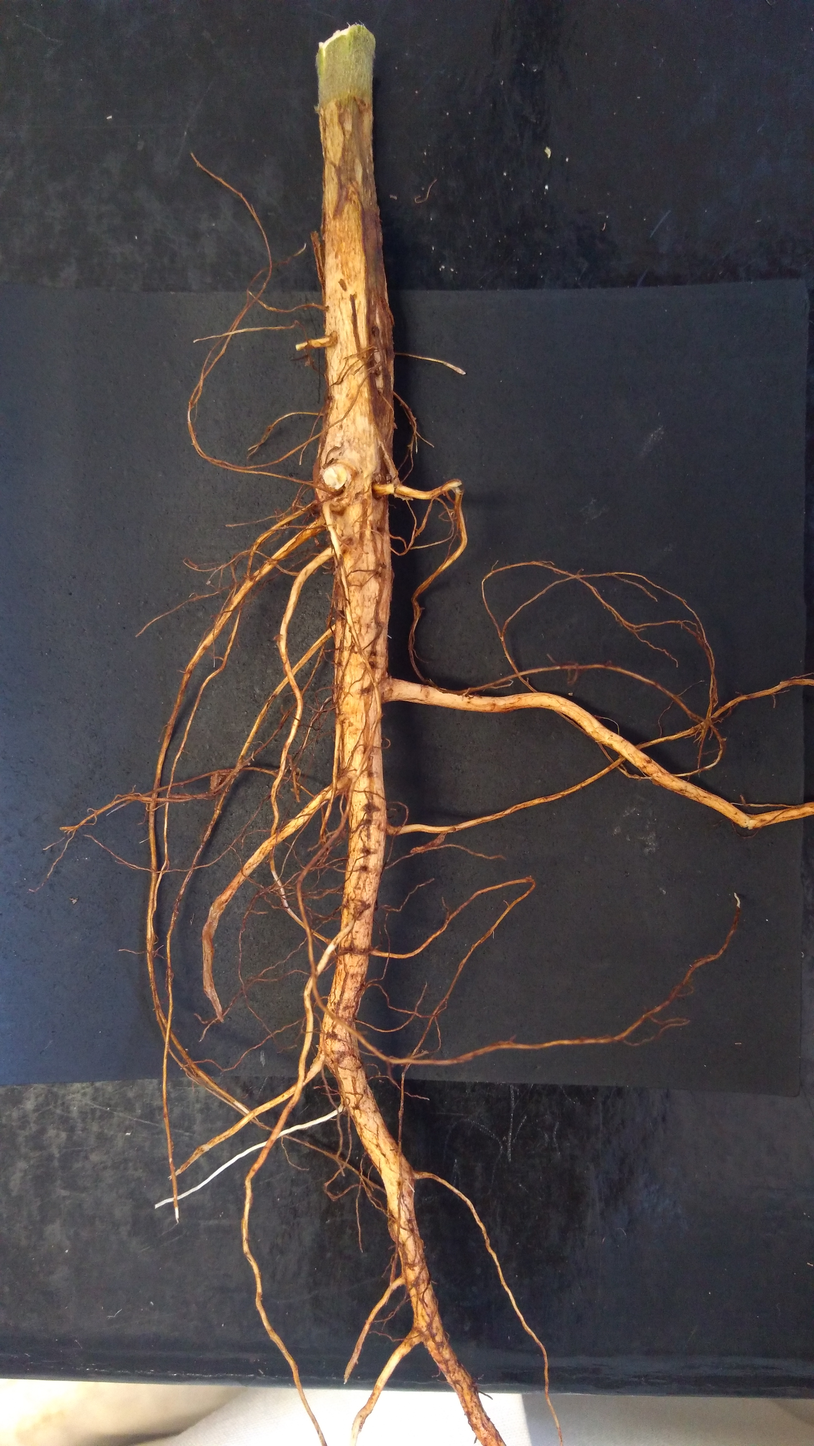nodule: (321, 461, 349, 491), (208, 770, 229, 793), (385, 473, 392, 484)
